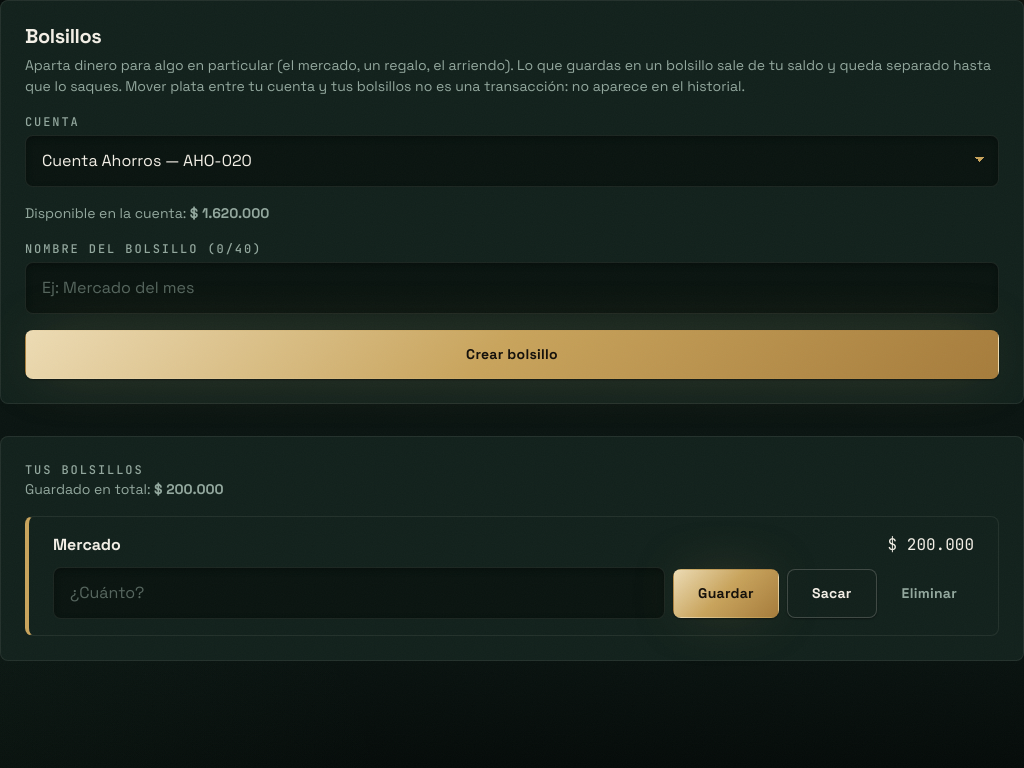
Bolsillos (mover plata propia: no es una transacción) › si el backend rechaza la operación se muestra su mensaje
The width and height of the screenshot is (1024, 768).
Expected: the text "Mercado" is shown, top-left (53, 533), bottom-right (121, 557)
Type "9999999" into the number field named "Monto para Mercado".
click(359, 593); type("9999999")  # box top-left (53, 567), bottom-right (665, 619)
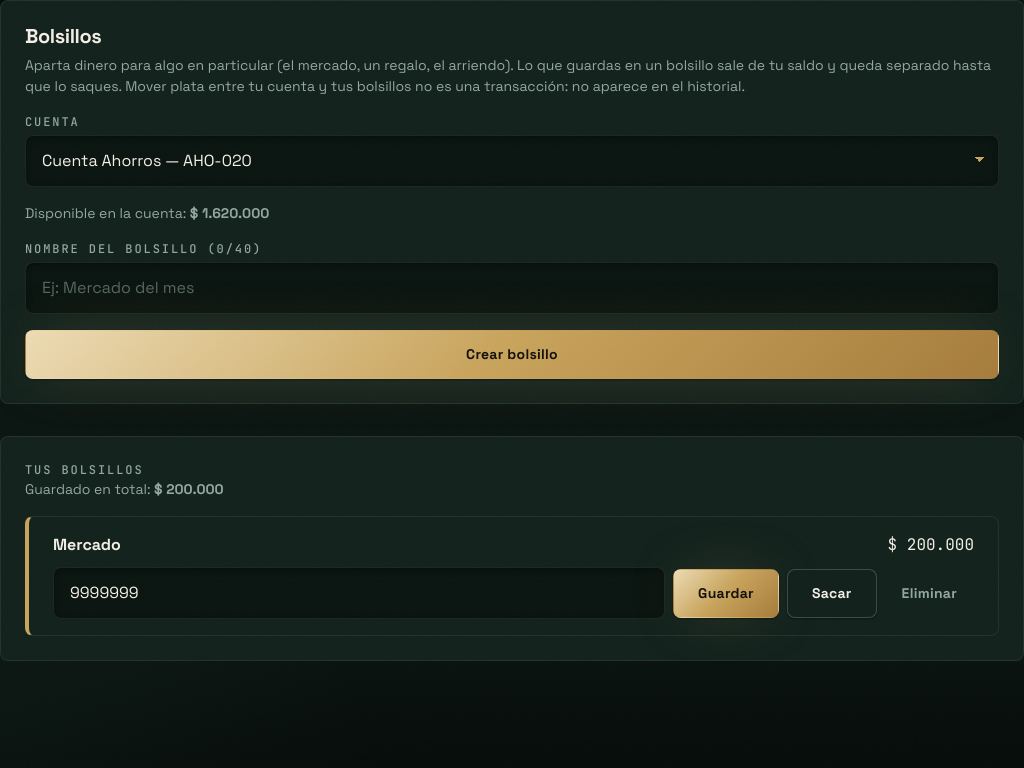
Click the button "Guardar".
click(726, 593)  # box top-left (673, 569), bottom-right (779, 618)
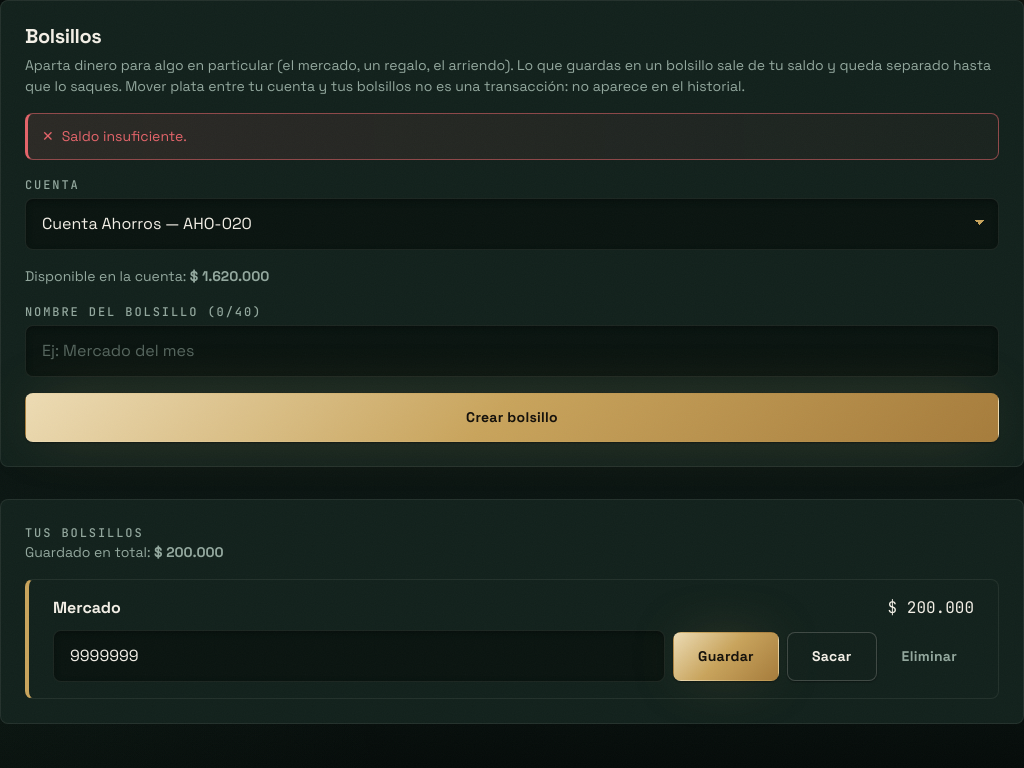
Now the text "Saldo insuficiente." is shown, box top-left (62, 126), bottom-right (187, 147)
